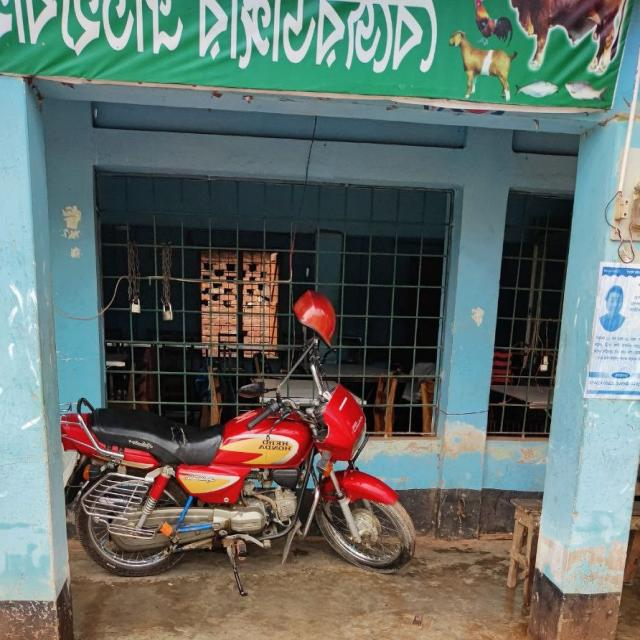Motorbike: (41, 276, 443, 586)
